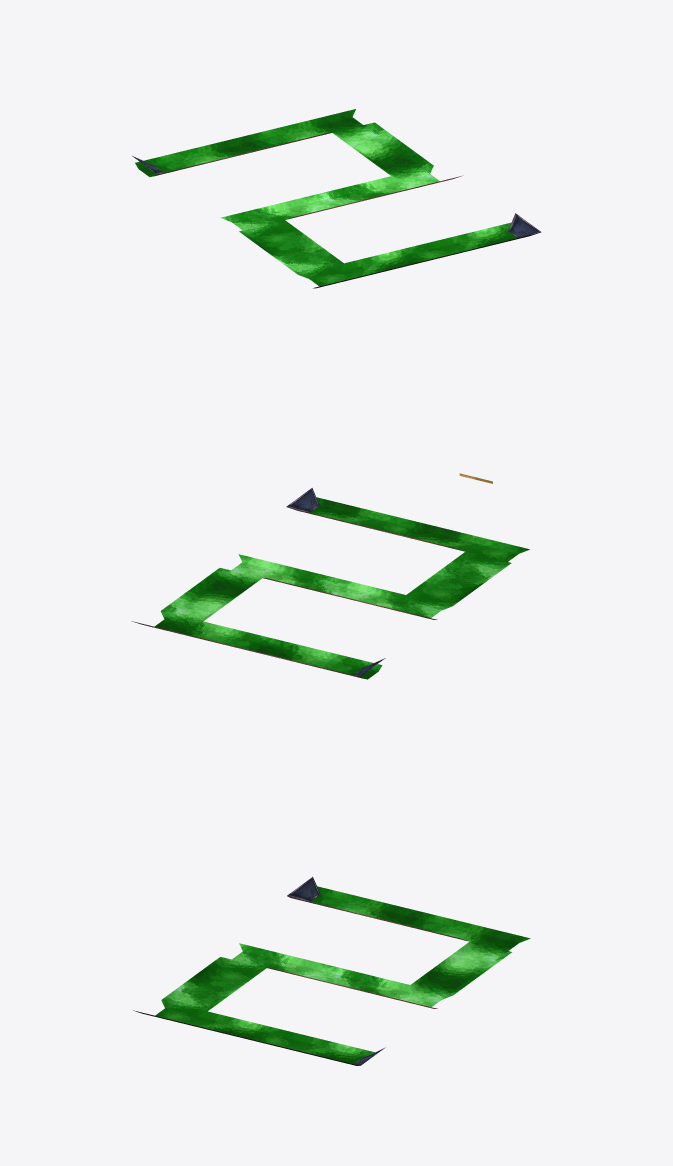
The model's file is NUCLEAR_PLANT01.glb.
The picture shows the model from 3 angles, top to bottom: view 1: azimuth 30°, elevation 25°; view 2: azimuth 150°, elevation 25°; view 3: azimuth 330°, elevation 25°; orthographic projection.
Visible parts, largest first — view 1: NUCLEAR_PLANT01; view 2: NUCLEAR_PLANT01; view 3: NUCLEAR_PLANT01.
Boxes of the visible parts, x1,y1,x2,y2 form: NUCLEAR_PLANT01: (132, 109, 541, 288); NUCLEAR_PLANT01: (131, 473, 529, 679); NUCLEAR_PLANT01: (133, 877, 530, 1065).
Size of the model in its own units: 5268 by 182 by 16503.
4 materials, 4 textured.
